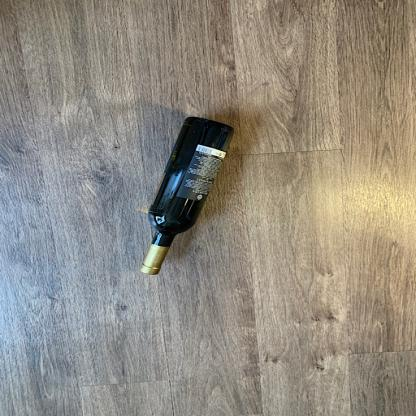trash: (139, 117, 236, 278)
